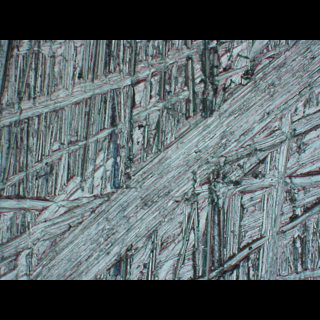d: (1, 42, 319, 279)
